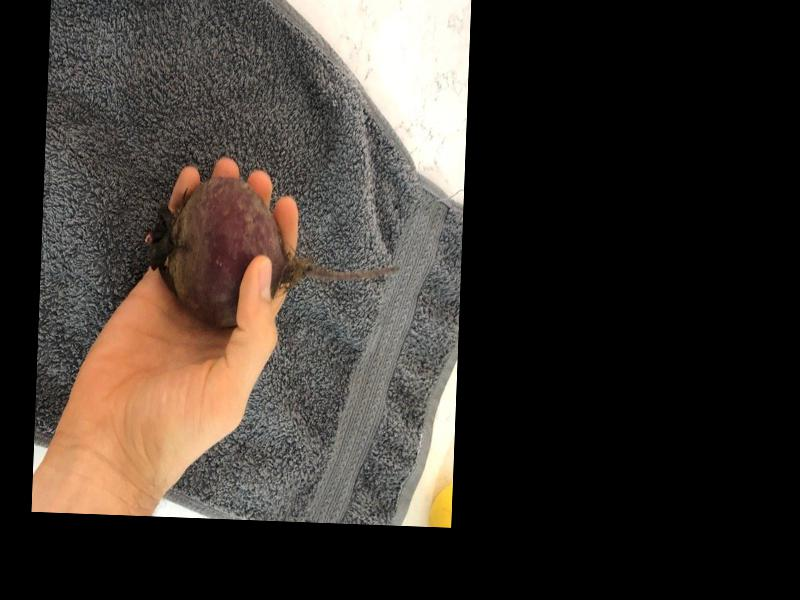Beet: (147, 172, 402, 335)
